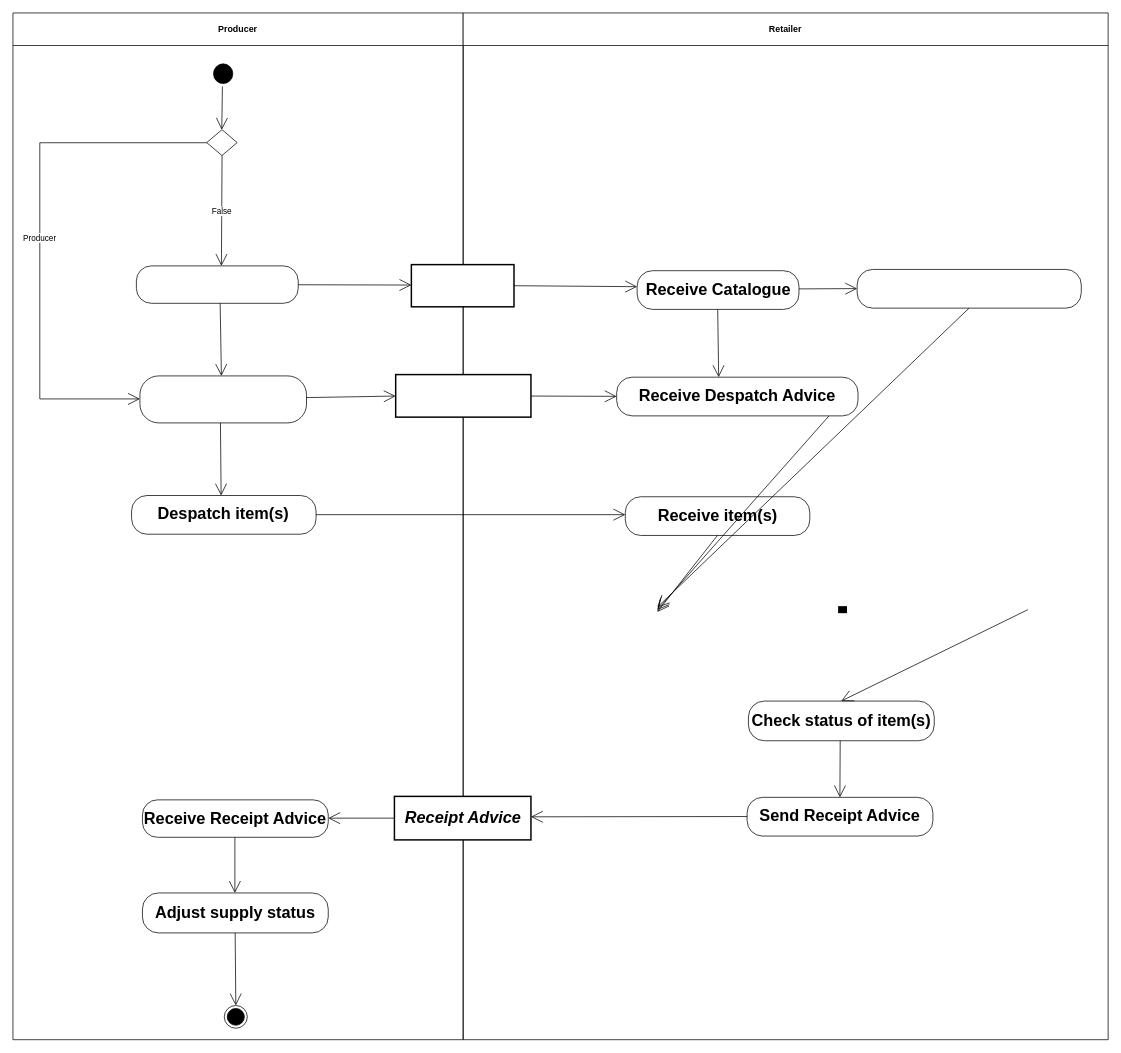
Image size: 1121x1053. Some labels were removed from this diagram. Each missing label, with the centre of its shape:
Catalogue: [462,285]
Despatch Advice: [463,395]
Send Catalogue: [217,284]
Send Despatch Advice: [223,399]
Update products database: [968,288]
